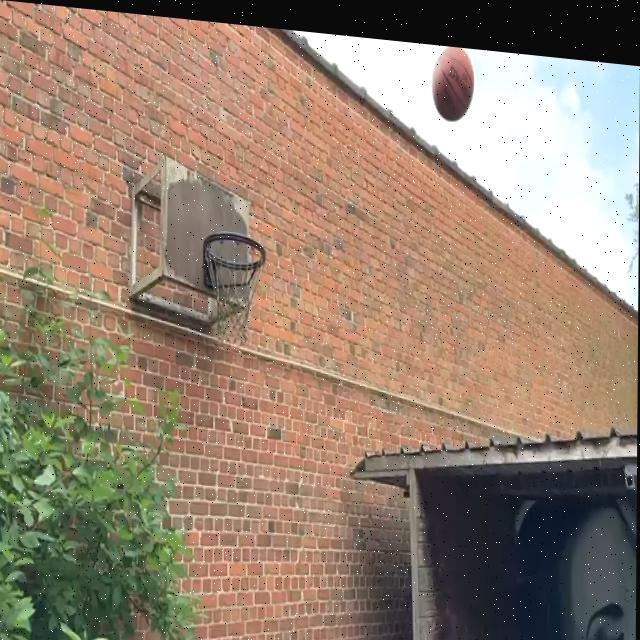Basketball: (430, 45, 474, 124)
